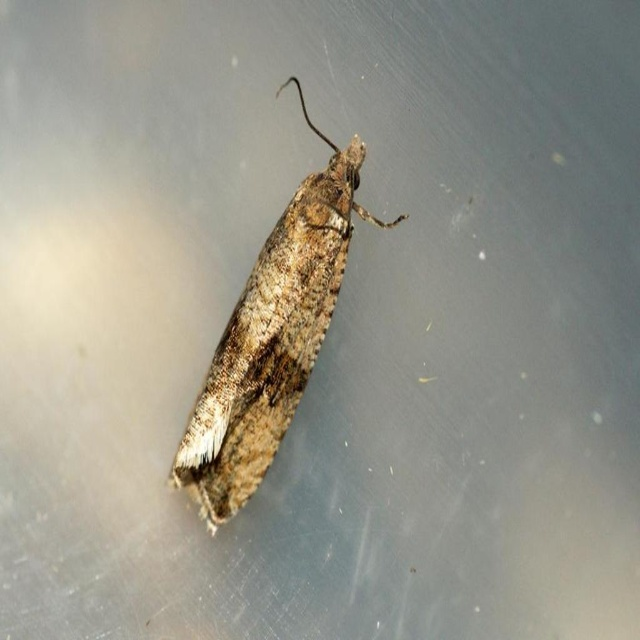Moths and butterflies: (167, 74, 409, 537)
